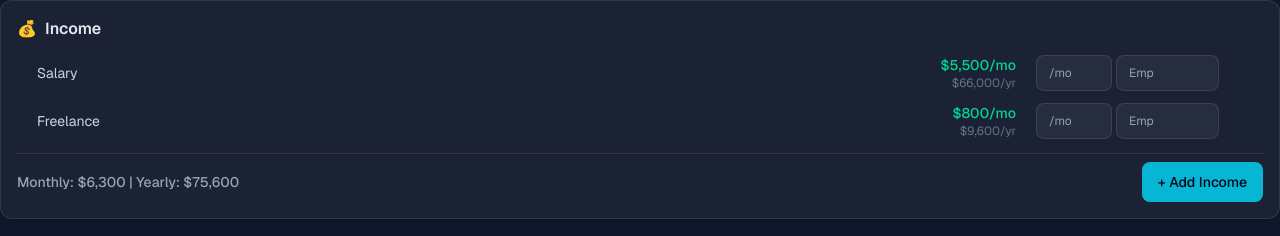
IncomeEntry component › shows click-to-edit input when amount is clicked
Click the button with aria-label "Edit amount for Salary" at (978, 73), box x1=932 y1=51 x2=1024 y2=95
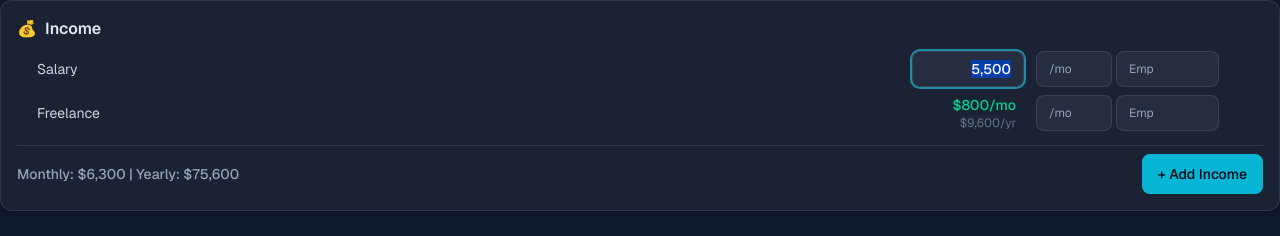
Check: the field named "Edit amount for Salary" is shown, box x1=912 y1=51 x2=1024 y2=87
